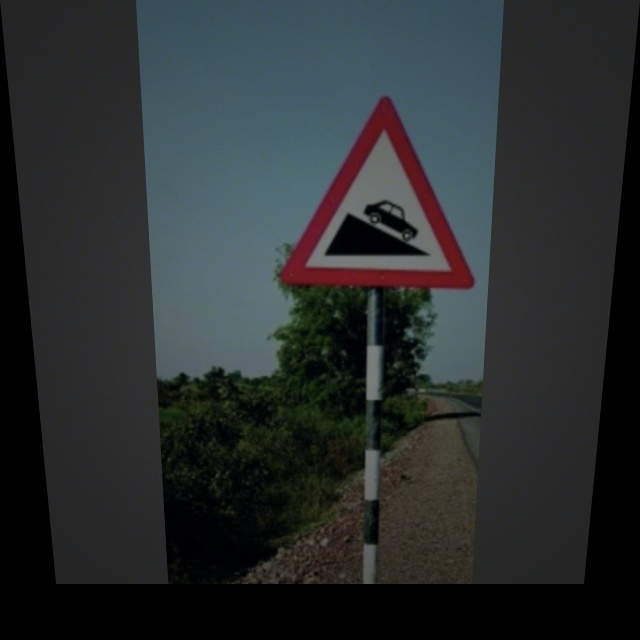Steep_Descent: (284, 97, 483, 296)
